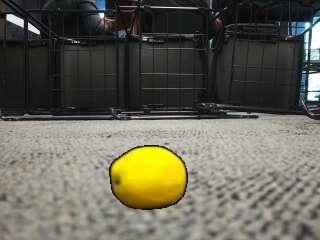lemon: (110, 147, 185, 209)
